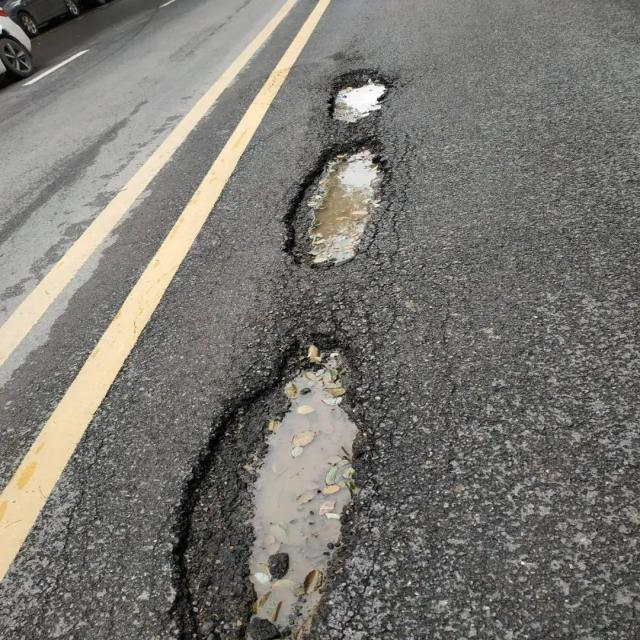Pothole: (170, 334, 391, 638), (283, 139, 404, 276), (328, 72, 393, 123)
